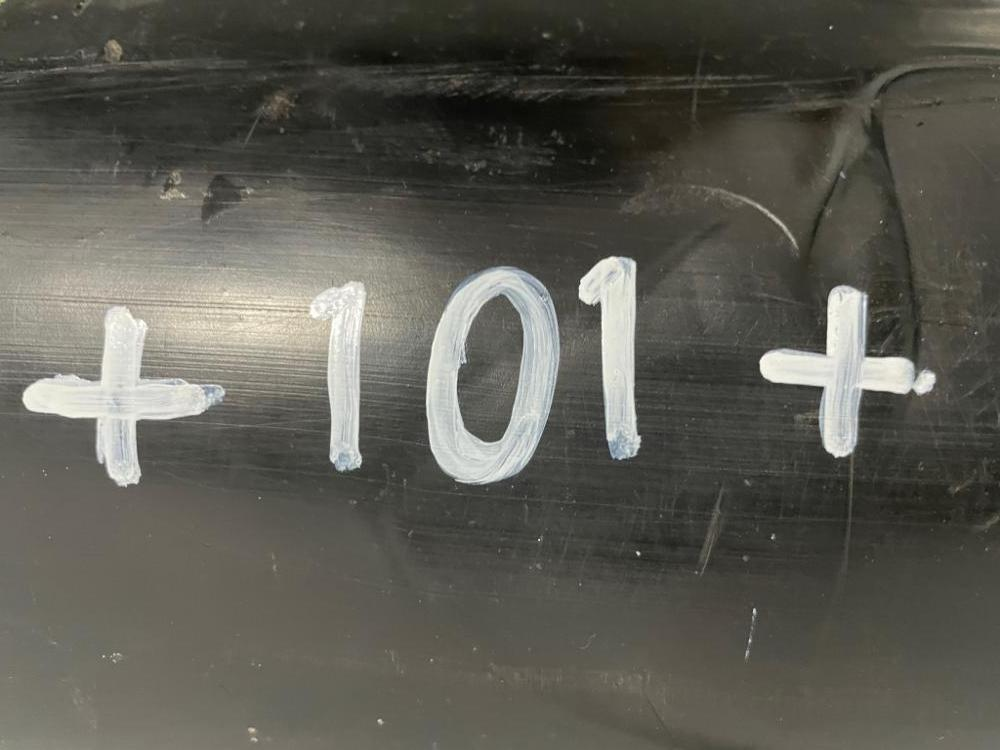+: (24, 309, 229, 490), (757, 286, 915, 458)
0: (416, 260, 565, 488)
1: (300, 281, 383, 475), (575, 250, 649, 463)
